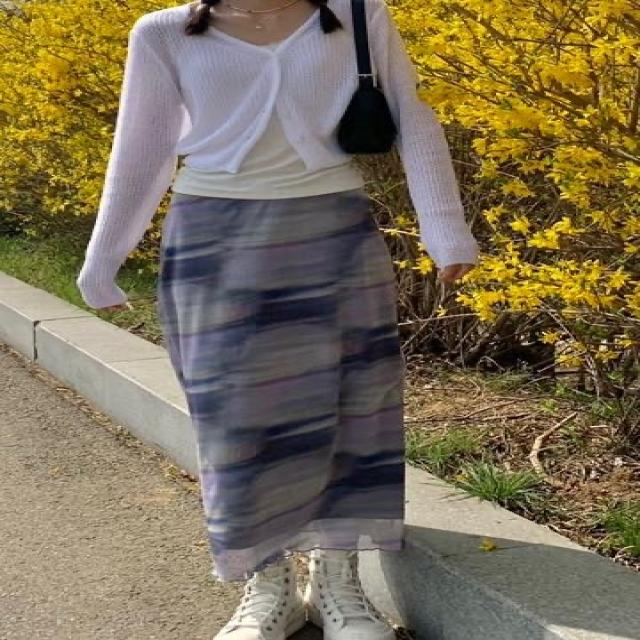cardigan: (79, 0, 476, 307)
skirt: (157, 186, 409, 582)
